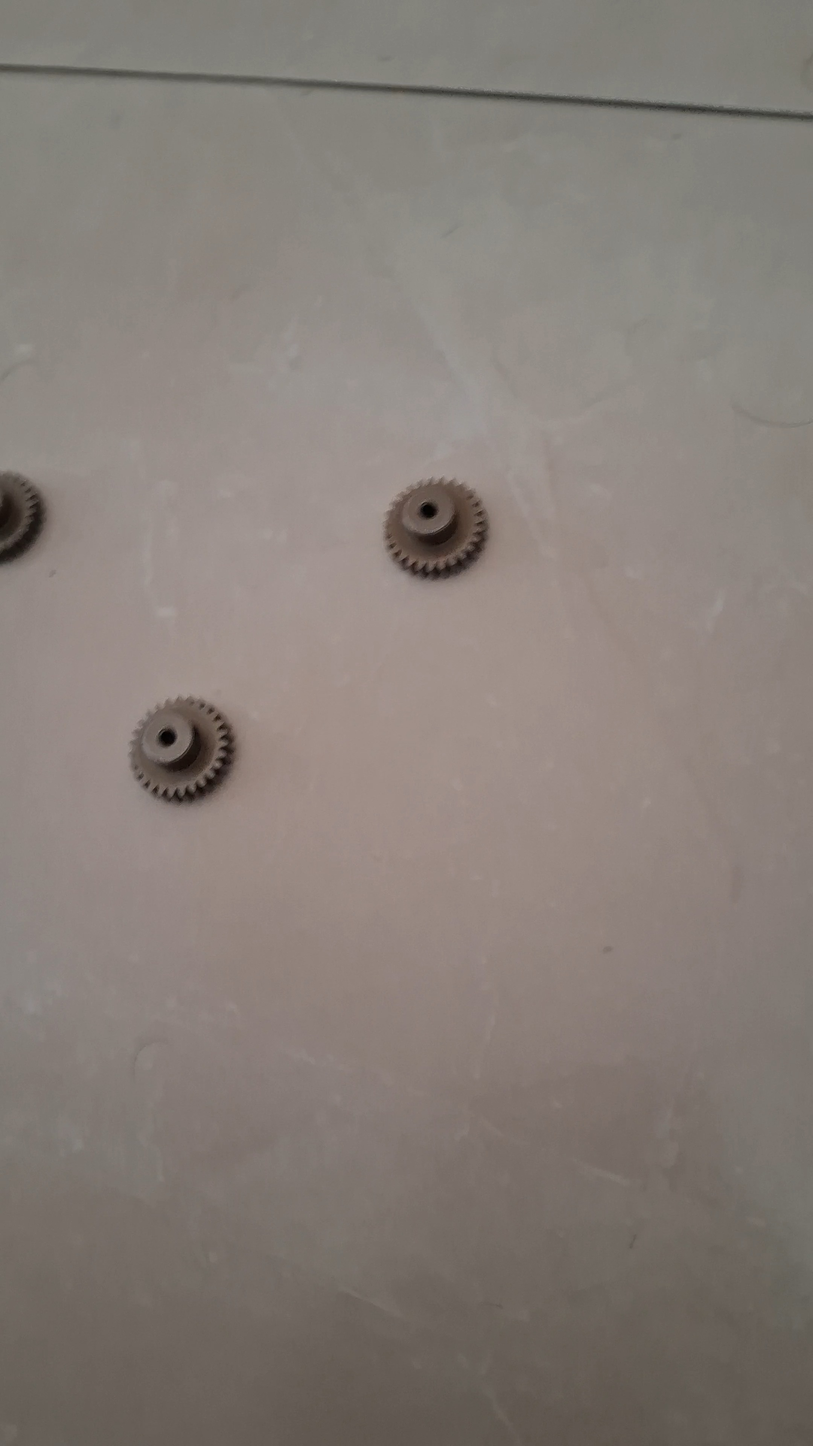spur gear: (130, 698, 233, 801), (384, 479, 487, 575), (0, 472, 43, 562)
